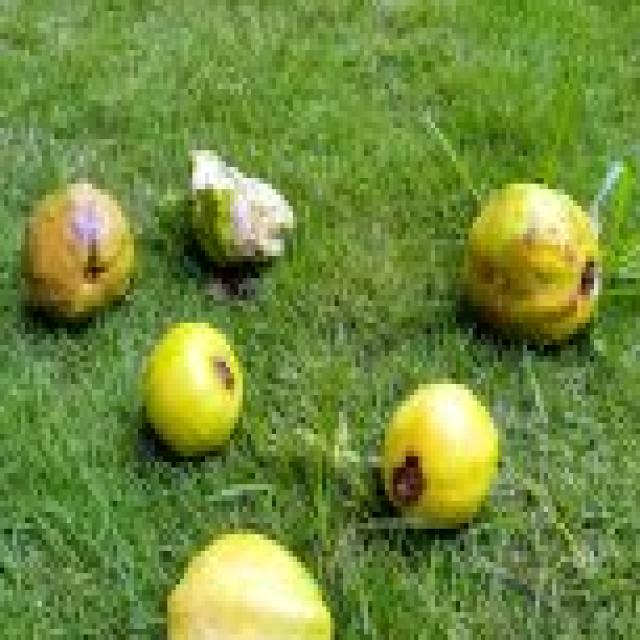Bad_Guava 0 day: (460, 184, 602, 351), (381, 384, 502, 534), (21, 184, 138, 334), (188, 150, 297, 306)
Good_Guava 5-7 days: (163, 534, 339, 640), (138, 323, 247, 467)
